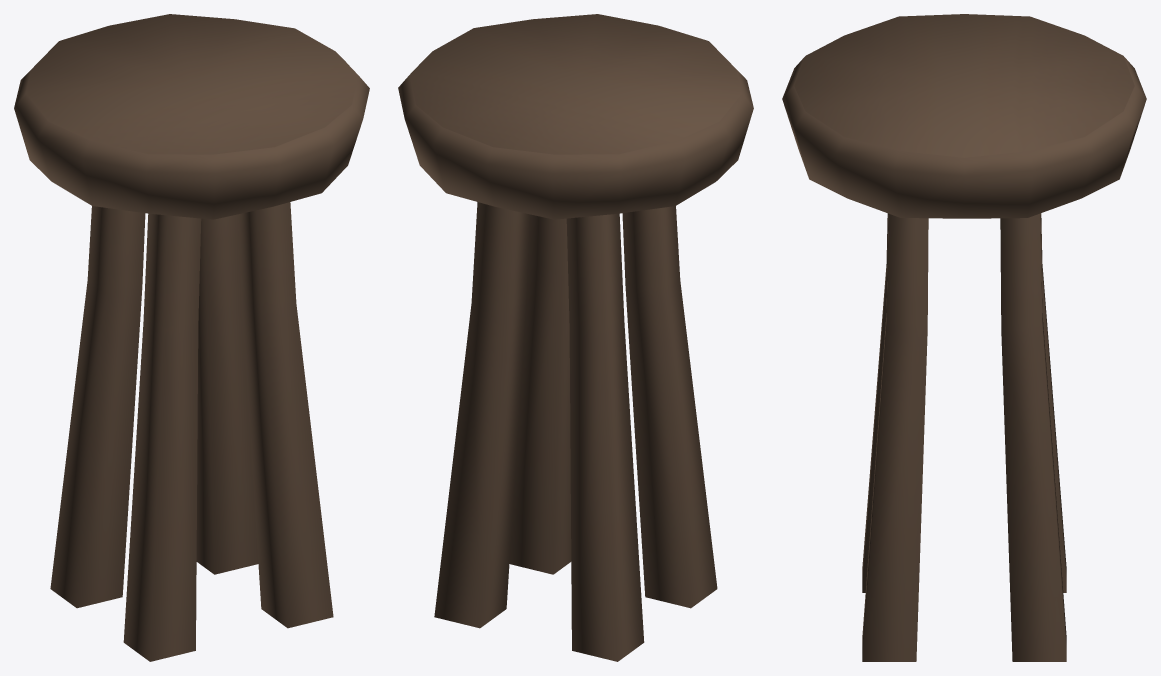
File: WoodenStool.fbx
3 renders of one model, left to right at view 1: azimuth 30°, elevation 25°; view 2: azimuth 150°, elevation 25°; view 3: azimuth 270°, elevation 25°, orthographic. The views are drawn at different scales.
Parts seen in each view (by area): view 1: WoodenStool; view 2: WoodenStool; view 3: WoodenStool.
Part boxes in pixels (box(x1,y1,x2,y2)): WoodenStool: box(14, 14, 369, 661); WoodenStool: box(398, 14, 753, 661); WoodenStool: box(782, 14, 1146, 661).
Size of the model in its own units: 56.67 by 91.34 by 56.7.
